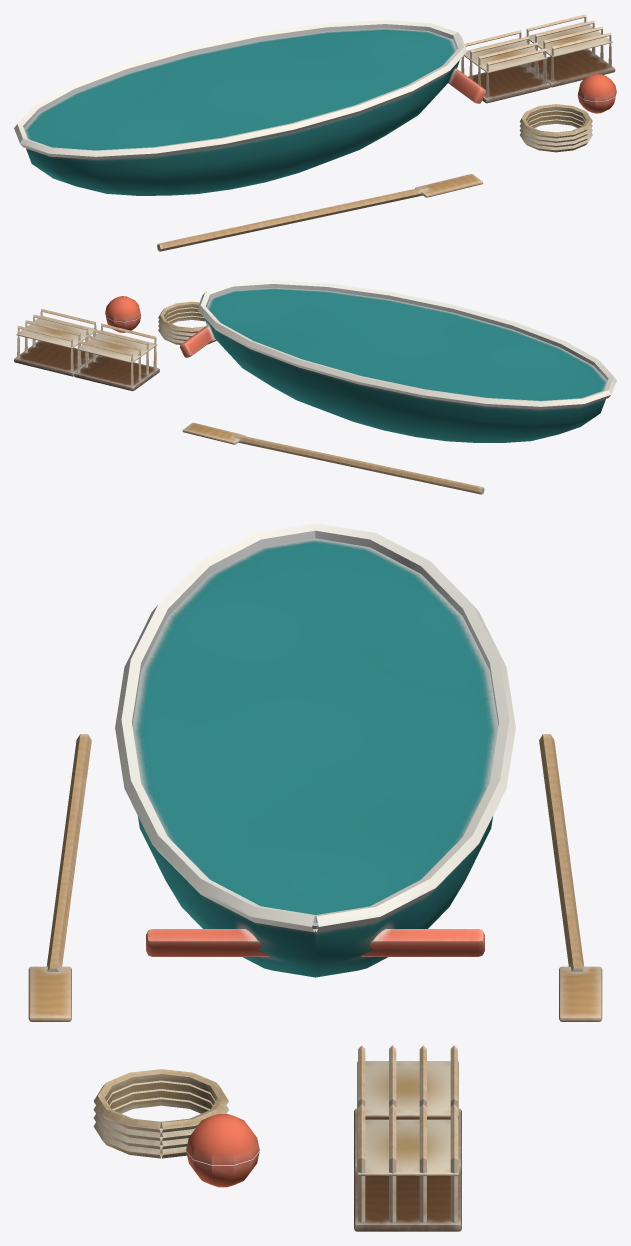
Rendered from dress_rowboat.glb.
The picture shows the model from 3 angles, top to bottom: view 1: azimuth 30°, elevation 25°; view 2: azimuth 150°, elevation 25°; view 3: azimuth 270°, elevation 25°; orthographic projection. The views are drawn at different scales.
Parts seen in each view (by area): view 1: SM_DressRowboat; view 2: SM_DressRowboat; view 3: SM_DressRowboat.
Part boxes in pixels (x1,y1,x2,y2): SM_DressRowboat: (14, 14, 616, 251); SM_DressRowboat: (14, 280, 616, 494); SM_DressRowboat: (28, 523, 602, 1231).
Size of what is drawn, in the model's own units: 4.2 by 0.5885 by 1.86.
1 material, 1 textured.
